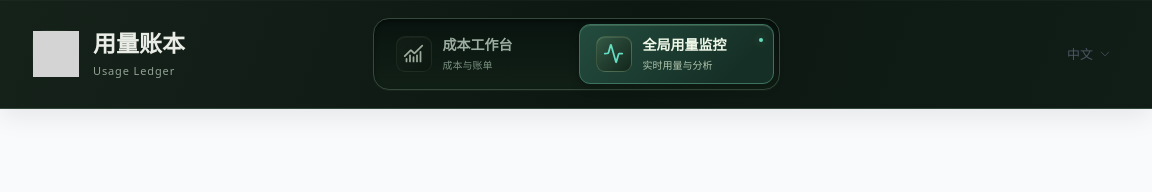
it: switches the live header language through the existing locale menu and preserves the saved choice
This screenshot has width=1152, height=192.
Step 1. Click the button "中文" → click(1089, 54), box [1058,38,1120,70]
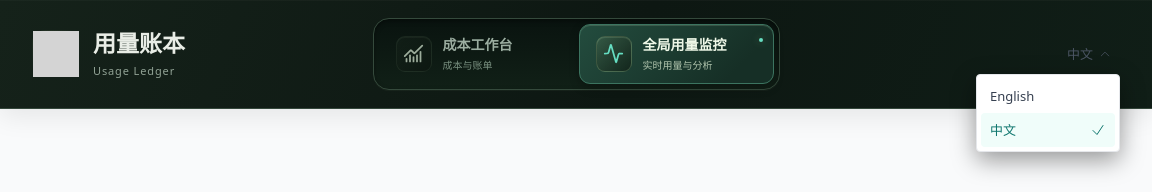
Step 2. Click the button "English" → click(1048, 96), box [981,79,1115,113]
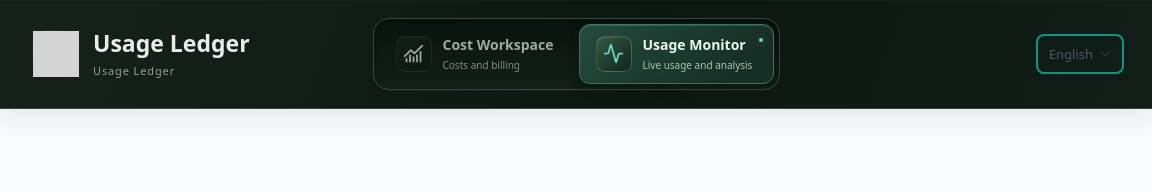
Check: the 1st text "Usage Ledger" is shown, box [93,28,250,59]
Check: the link "Usage Monitor Live usage and analysis" is shown, box [578,24,774,84]
Step 3. Click the button "English" → click(1080, 54), box [1040,38,1120,70]
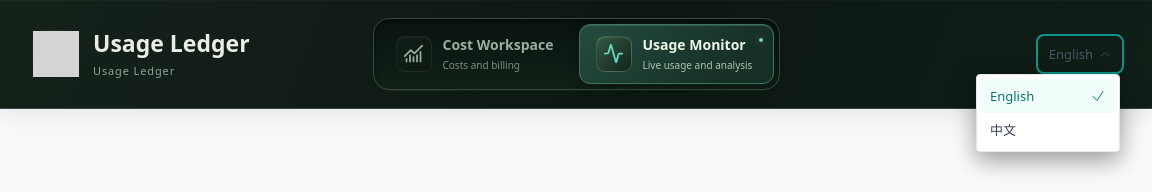
Step 4. Click the button "中文" → click(1048, 130), box [981,113,1115,147]
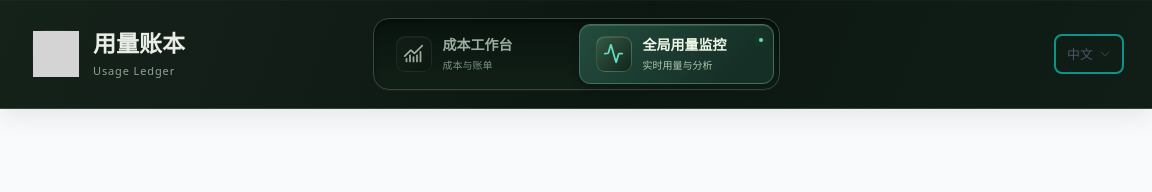
Check: the number of buttons is 1, box [1058,38,1120,70]
Check: the text "用量账本" is shown, box [93,28,185,59]
